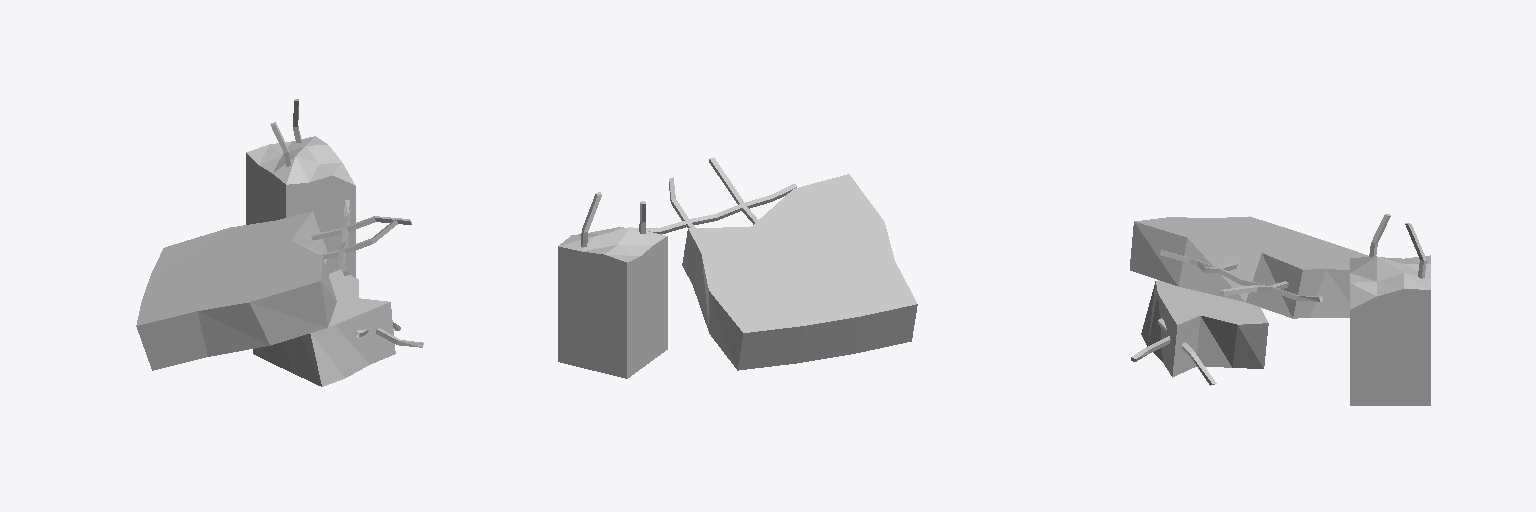
Rendered from ruinedConcrete_Low.obj.
3 views of the same model, side by side, from view 1: azimuth 30°, elevation 25°; view 2: azimuth 150°, elevation 25°; view 3: azimuth 270°, elevation 25° (orthographic).
Visible parts, largest first — view 1: Low; view 2: Low; view 3: Low.
Part boxes in pixels (x1,y1,x2,y2): Low: (136, 99, 423, 386); Low: (558, 157, 917, 378); Low: (1130, 214, 1430, 405).
Bounding box in the file's own units: 3.32 × 1.97 × 3.21.